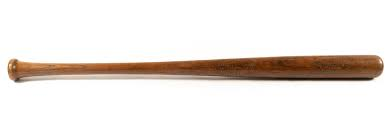bat: (6, 54, 385, 82)
